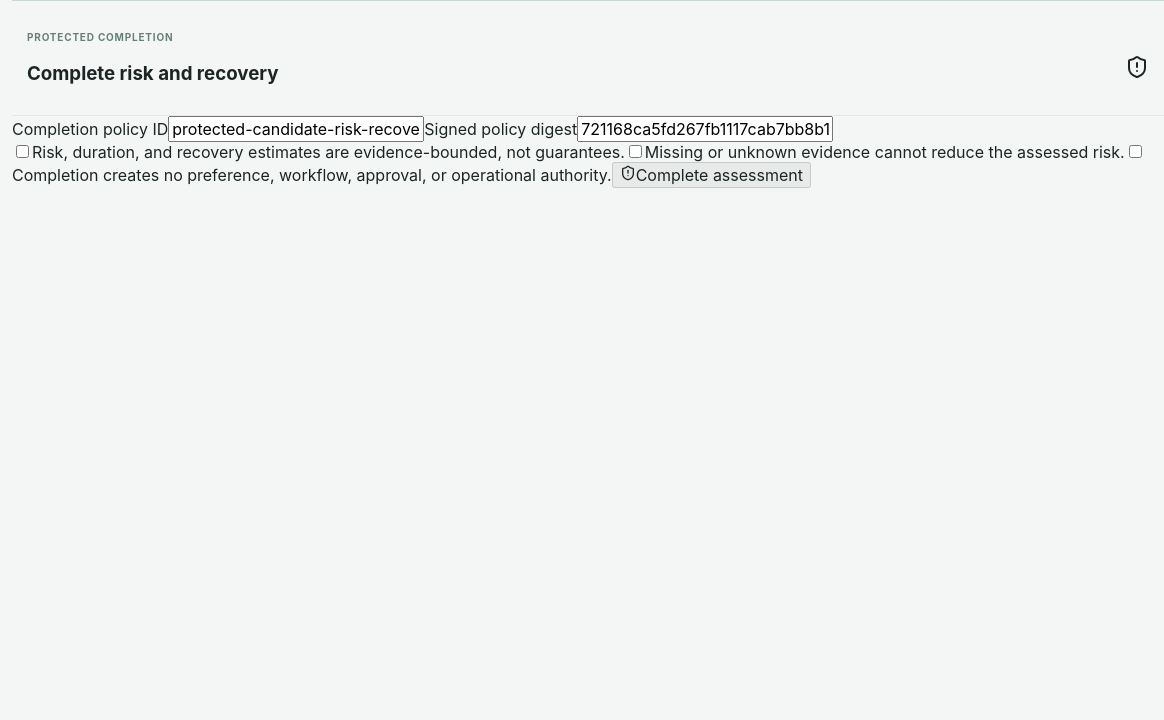
Test: ProtectedCandidateRiskRecoveryPanel › submits only acknowledgements and presents a minimized aggregate
Expected: the button "Complete assessment" is disabled, [612,162,811,188]
Click the checkbox labelled "Risk, duration, and recovery estimates are evidence-bounded, not guarantees.": (22, 152) [16,145,29,158]
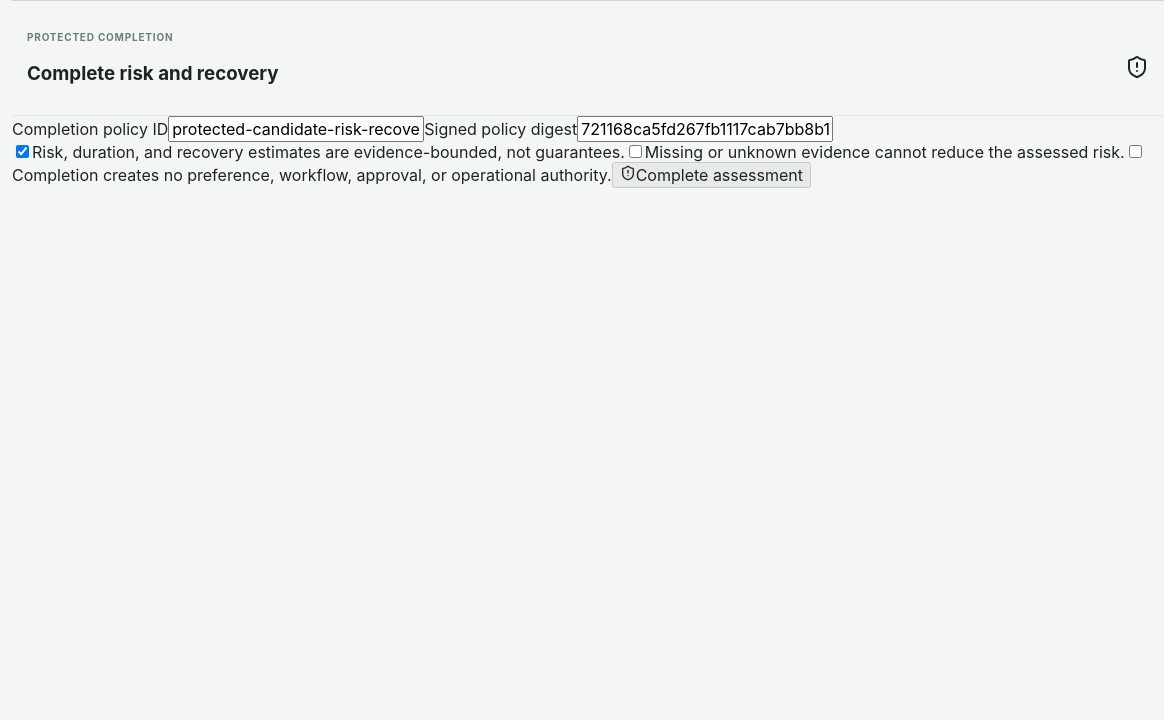
Click the checkbox labelled "Missing or unknown evidence cannot reduce the assessed risk.": (635, 152) [629,145,642,158]
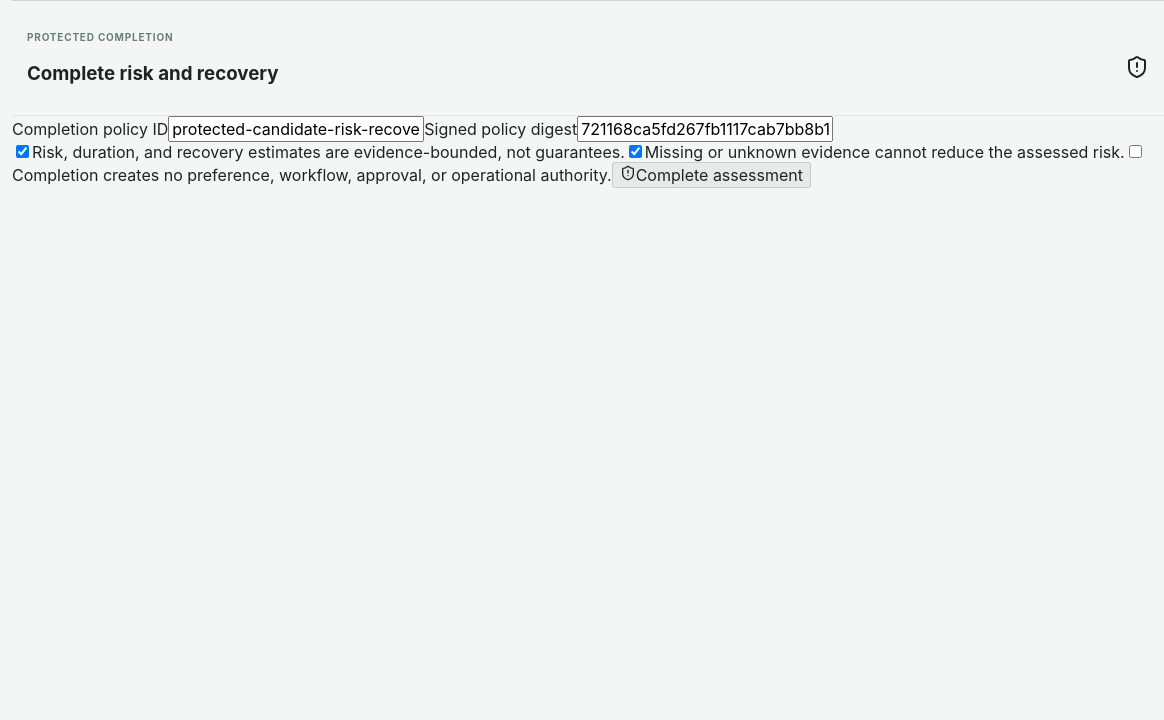
Click the checkbox labelled "Completion creates no preference, workflow, approval, or operational authority.": (1135, 152) [1129,145,1142,158]
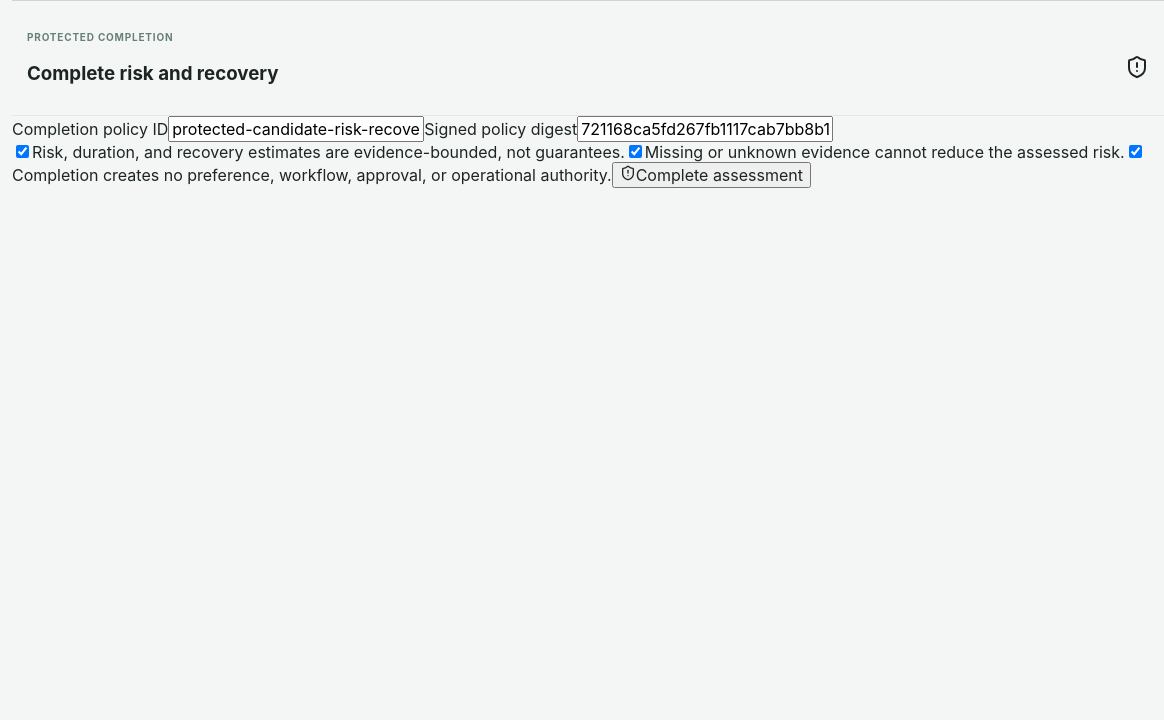
Expected: the button "Complete assessment" is enabled
Click the button "Complete assessment": (711, 175) [612,162,811,188]
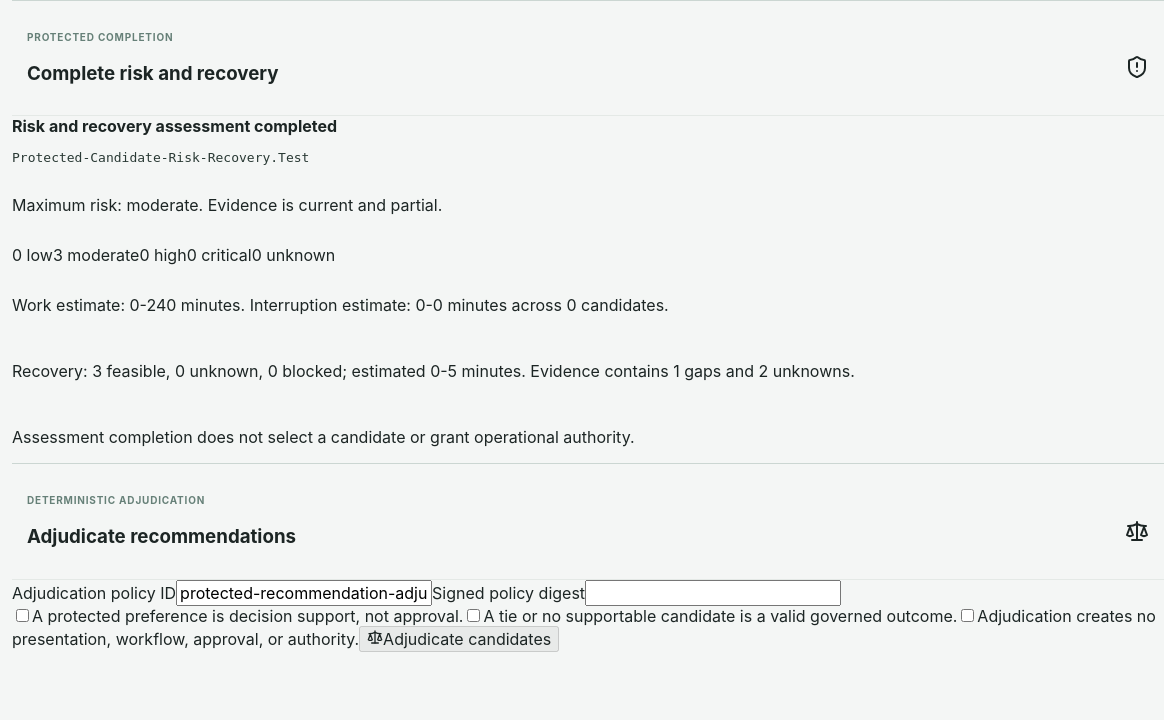
Expected: the text "Risk and recovery assessment completed" is shown, [12,116,337,136]
Expected: the text "Maximum risk: moderate. Evidence is current and partial." is shown, [12,195,442,215]
Expected: the text "3 moderate" is shown, [53,245,139,265]
